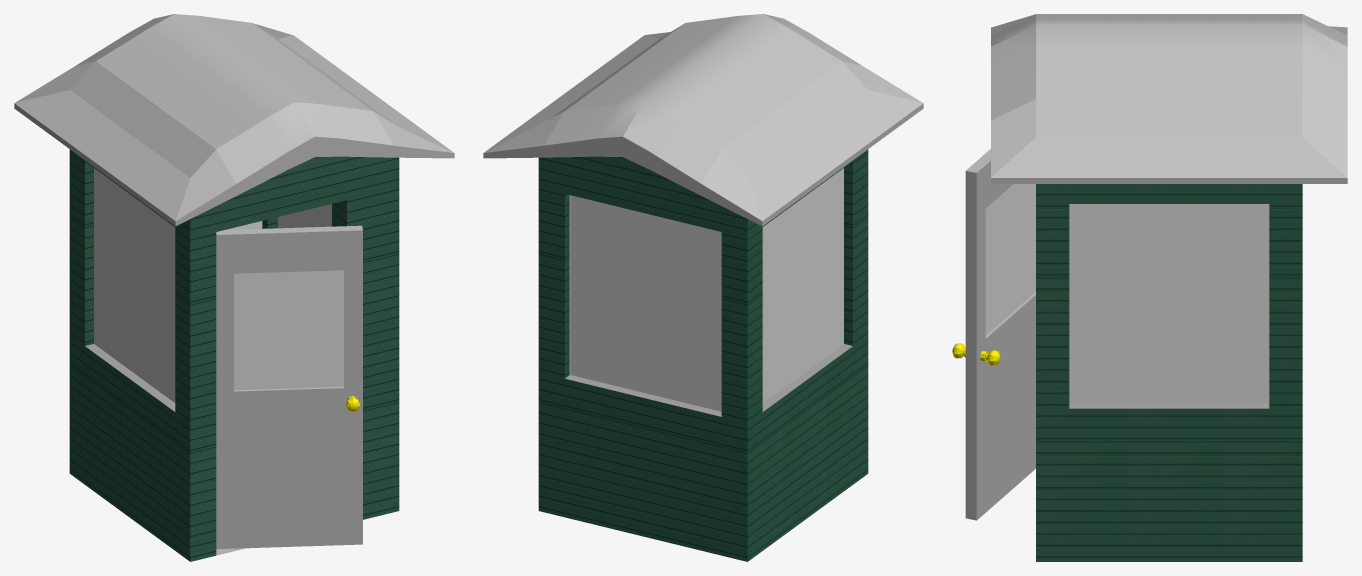
Rendered from CasetaT.fbx.
3 views of the same model, side by side, from view 1: azimuth 30°, elevation 25°; view 2: azimuth 150°, elevation 25°; view 3: azimuth 270°, elevation 25° (orthographic). The views are drawn at different scales.
Visible parts, largest first — view 1: pCube1, pCube5; view 2: pCube1; view 3: pCube1, pCube5.
Part boxes in pixels (x1,y1,x2,y2): pCube1: [14, 14, 454, 561]; pCube5: [216, 225, 362, 549]; pCube1: [483, 14, 923, 561]; pCube1: [991, 14, 1347, 561]; pCube5: [952, 149, 1035, 520].
Size of the model in its own units: 174 by 258 by 193.
Materials: 5 (1 with a texture image).
